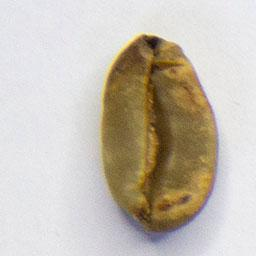defect: (97, 30, 223, 237)
